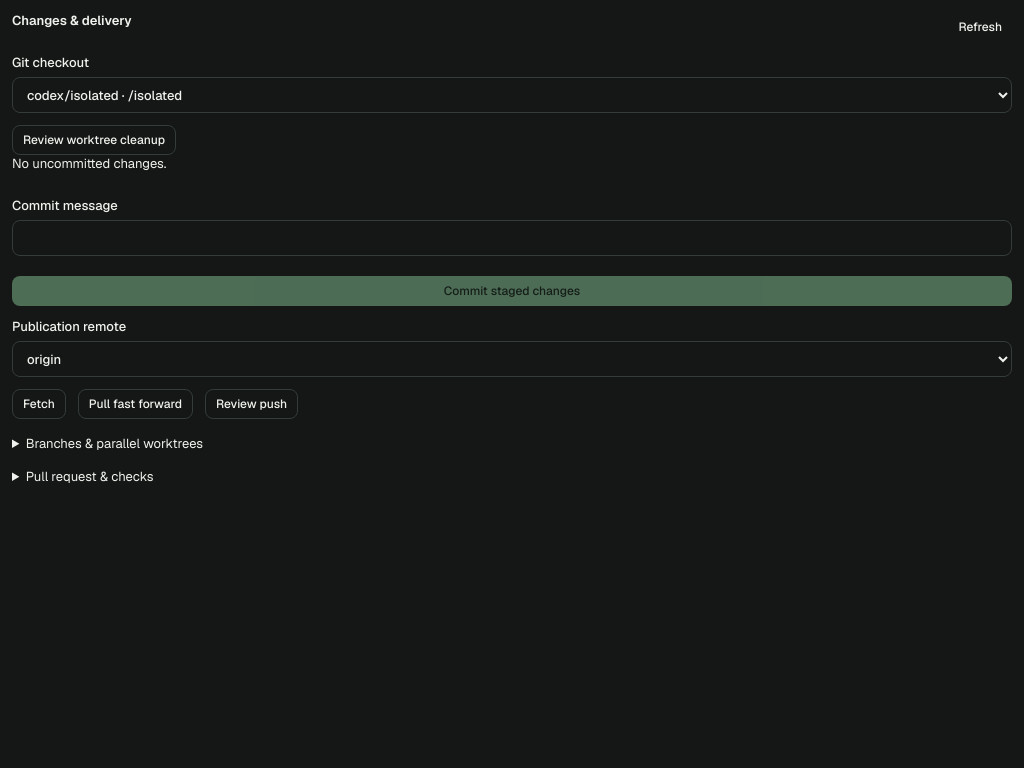
returns the delivery selector to project only after failed cleanup, retaining dirty refusal
Click the button "Review worktree cleanup".
click(94, 140)  # box [12,125,176,155]
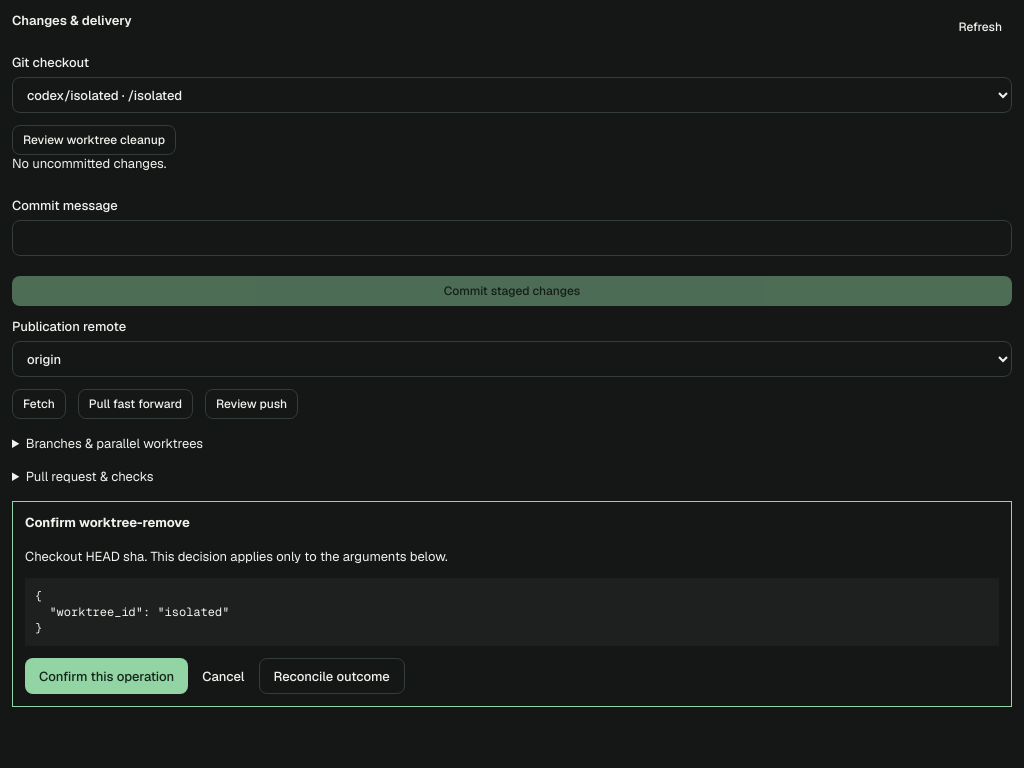
Click the button "Confirm this operation".
click(107, 676)  # box [25,658,188,694]
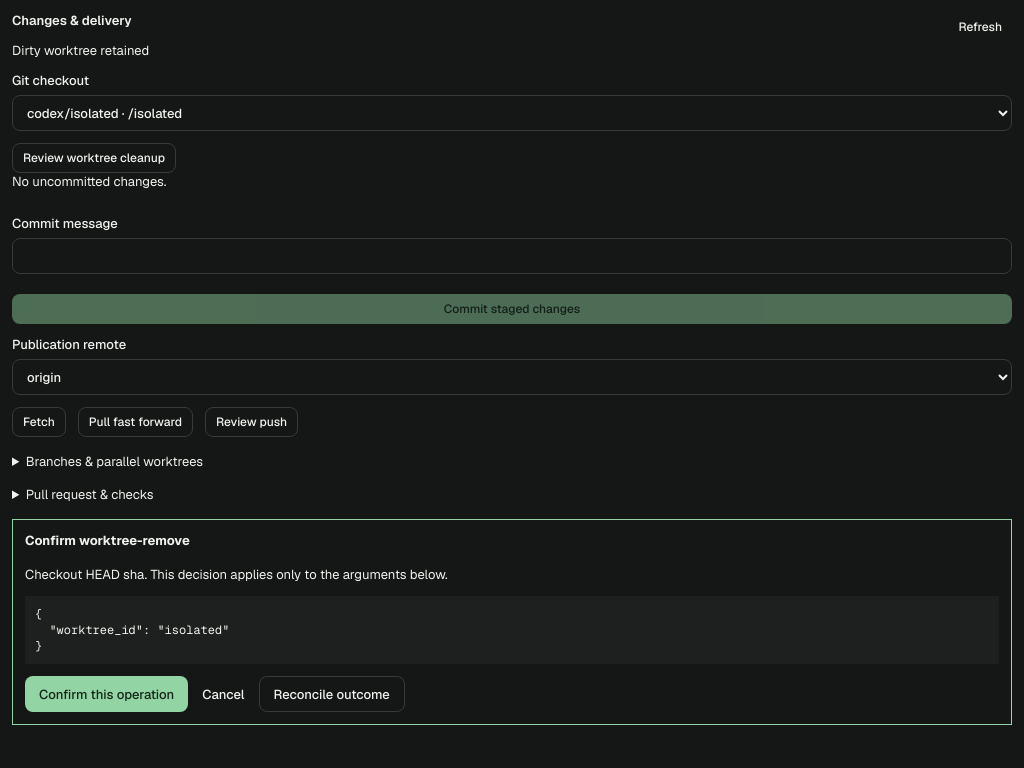
Check: the dropdown labelled "Git checkout" shows "codex/isolated · /isolated", box [12,95,1012,131]
Check: the text "Dirty worktree retained" is shown, box [12,42,149,59]
